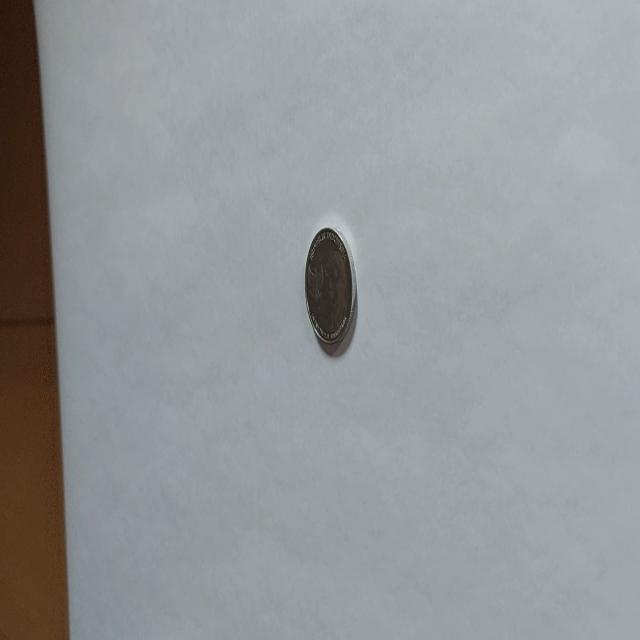lima ratus rupiah: (302, 225, 358, 355)
